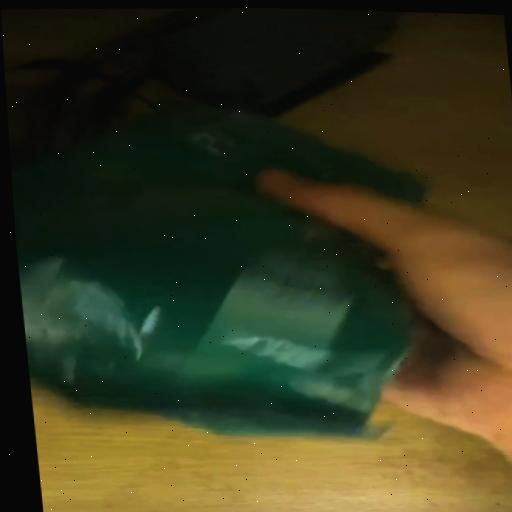cafe_xay: (11, 107, 423, 435)
